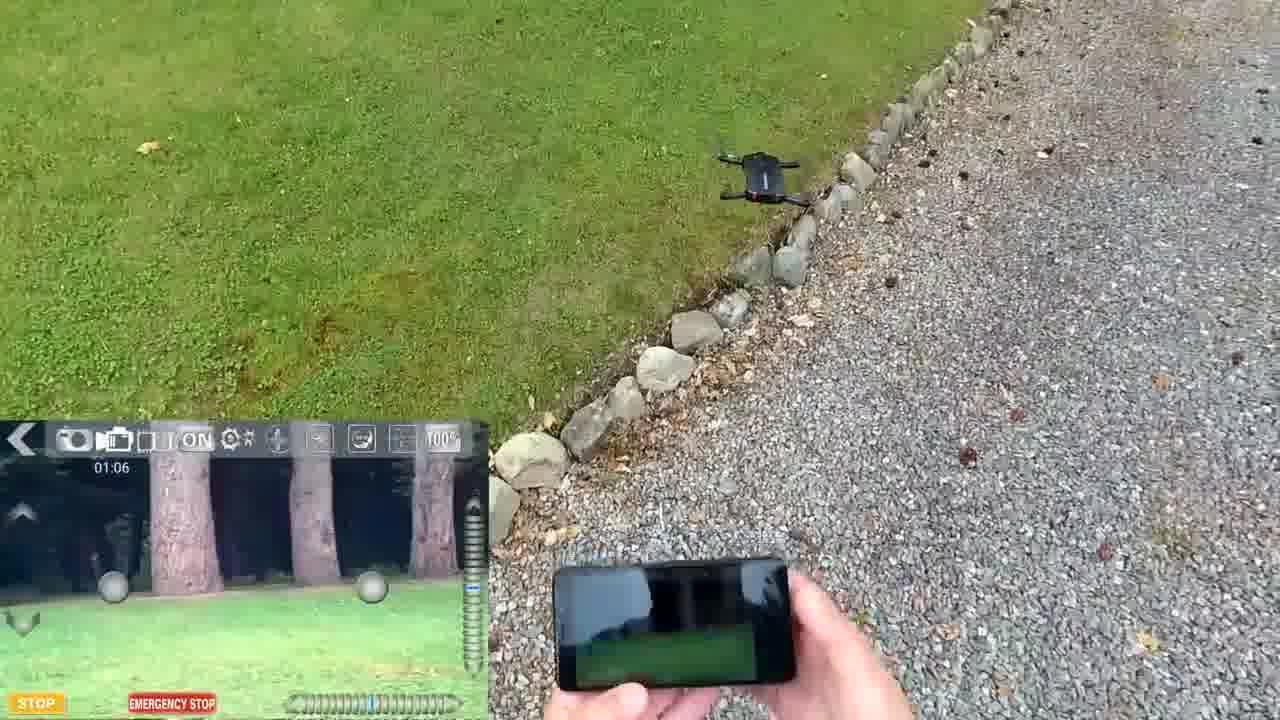drone: (696, 130, 815, 219)
